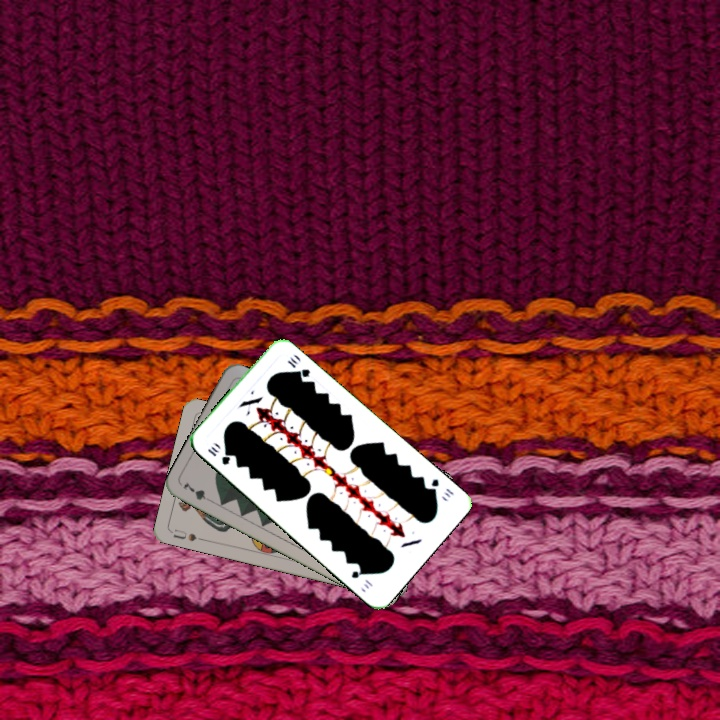G10: (425, 475, 457, 500), (203, 443, 233, 468)
G7: (179, 477, 217, 506)
SU: (168, 525, 208, 544)
